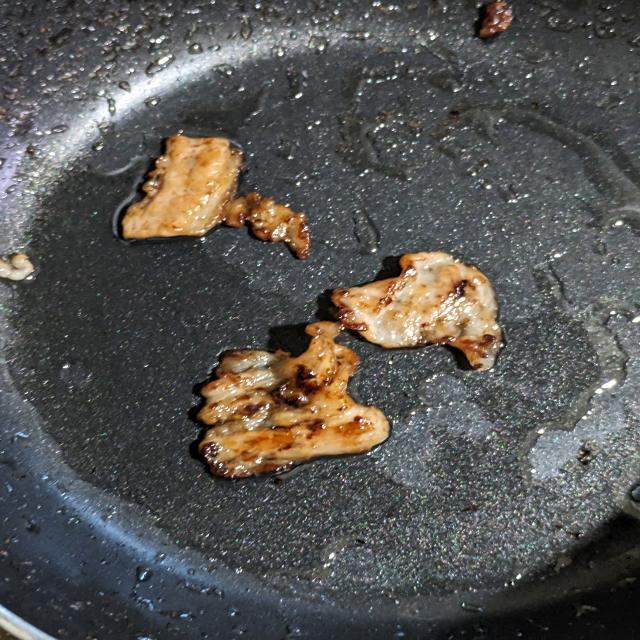OK cooked pork,: (194, 240, 508, 491), (118, 129, 318, 266)
